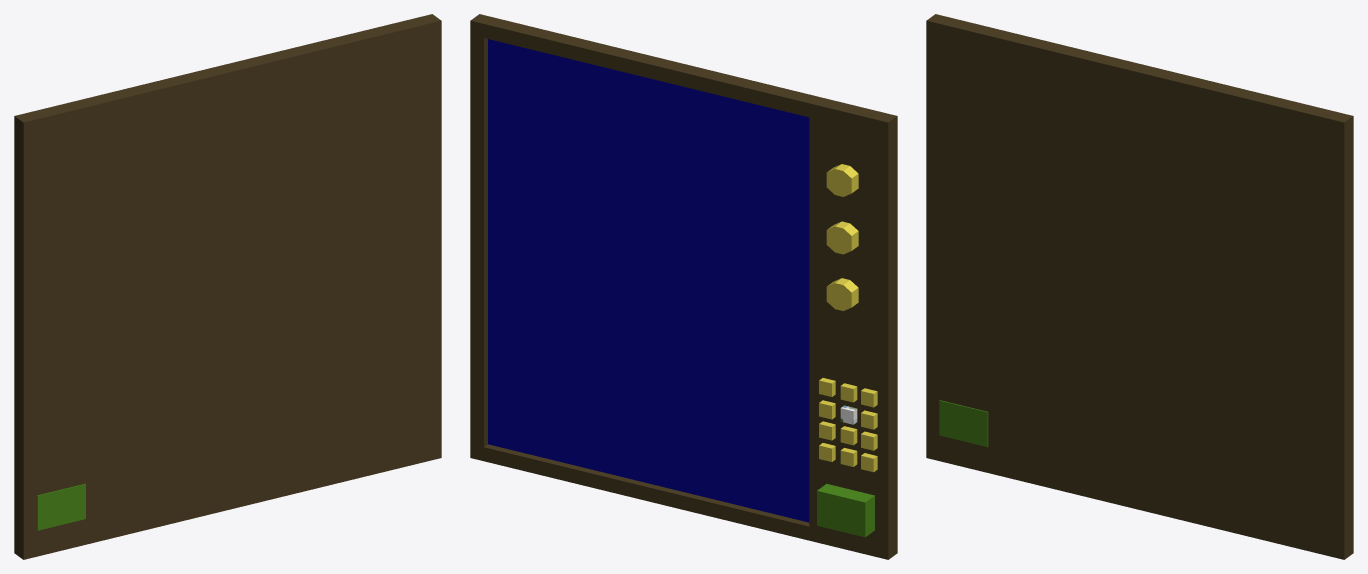
File: monitor.fbx
The picture shows the model from 3 angles, left to right: view 1: azimuth 30°, elevation 25°; view 2: azimuth 150°, elevation 25°; view 3: azimuth 330°, elevation 25°; orthographic projection.
Visible parts, largest first — view 1: Plane.001; view 2: Plane.001; view 3: Plane.001.
Boxes of the visible parts, x1,y1,x2,y2 form: Plane.001: (14, 14, 441, 559); Plane.001: (470, 14, 897, 559); Plane.001: (926, 14, 1353, 559).
Size of the model in its own units: 90.15 by 90.15 by 7.2.
Materials: 1 (1 with a texture image).
